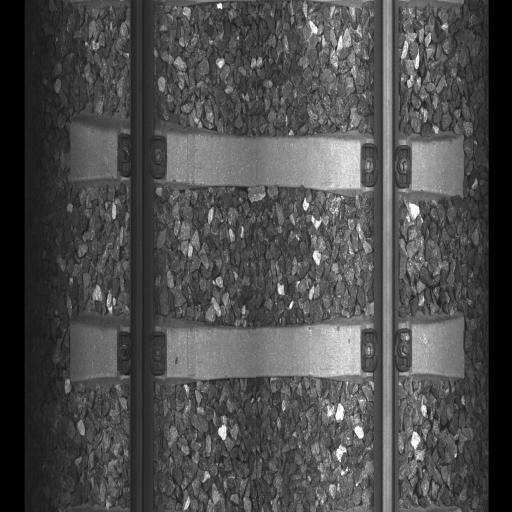clip: (118, 126, 167, 183), (118, 330, 166, 375), (363, 143, 410, 185), (363, 330, 412, 369)
sleeper: (68, 116, 466, 202), (68, 314, 464, 386)
